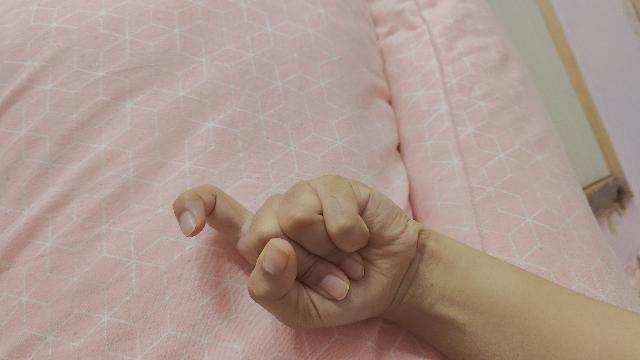tamrachud: (174, 175, 640, 360)
